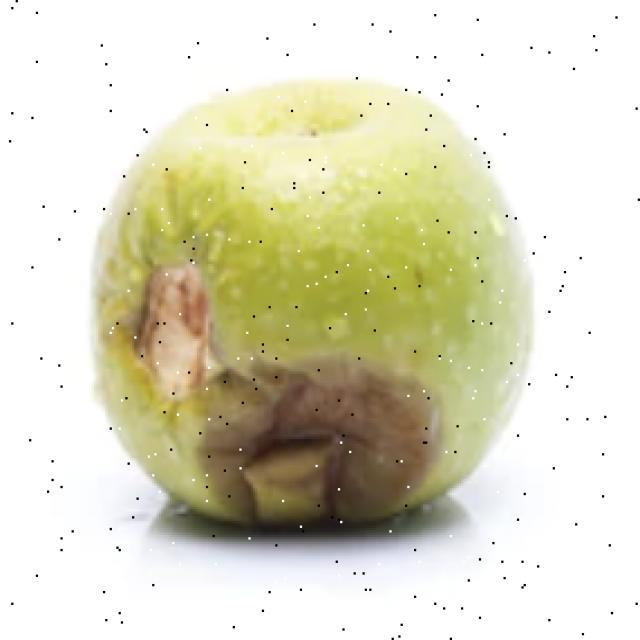Rotten: (93, 92, 520, 530)
